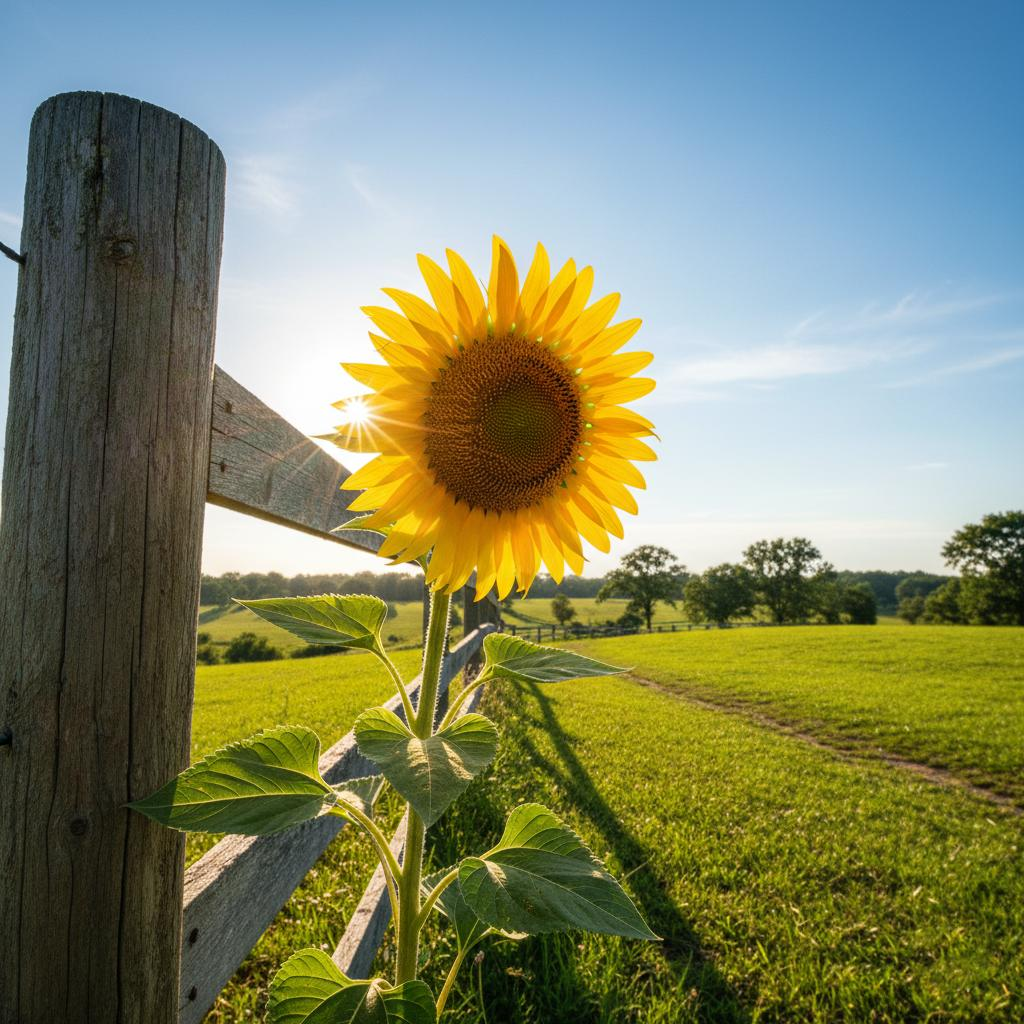sunflower: (315, 233, 660, 603)
